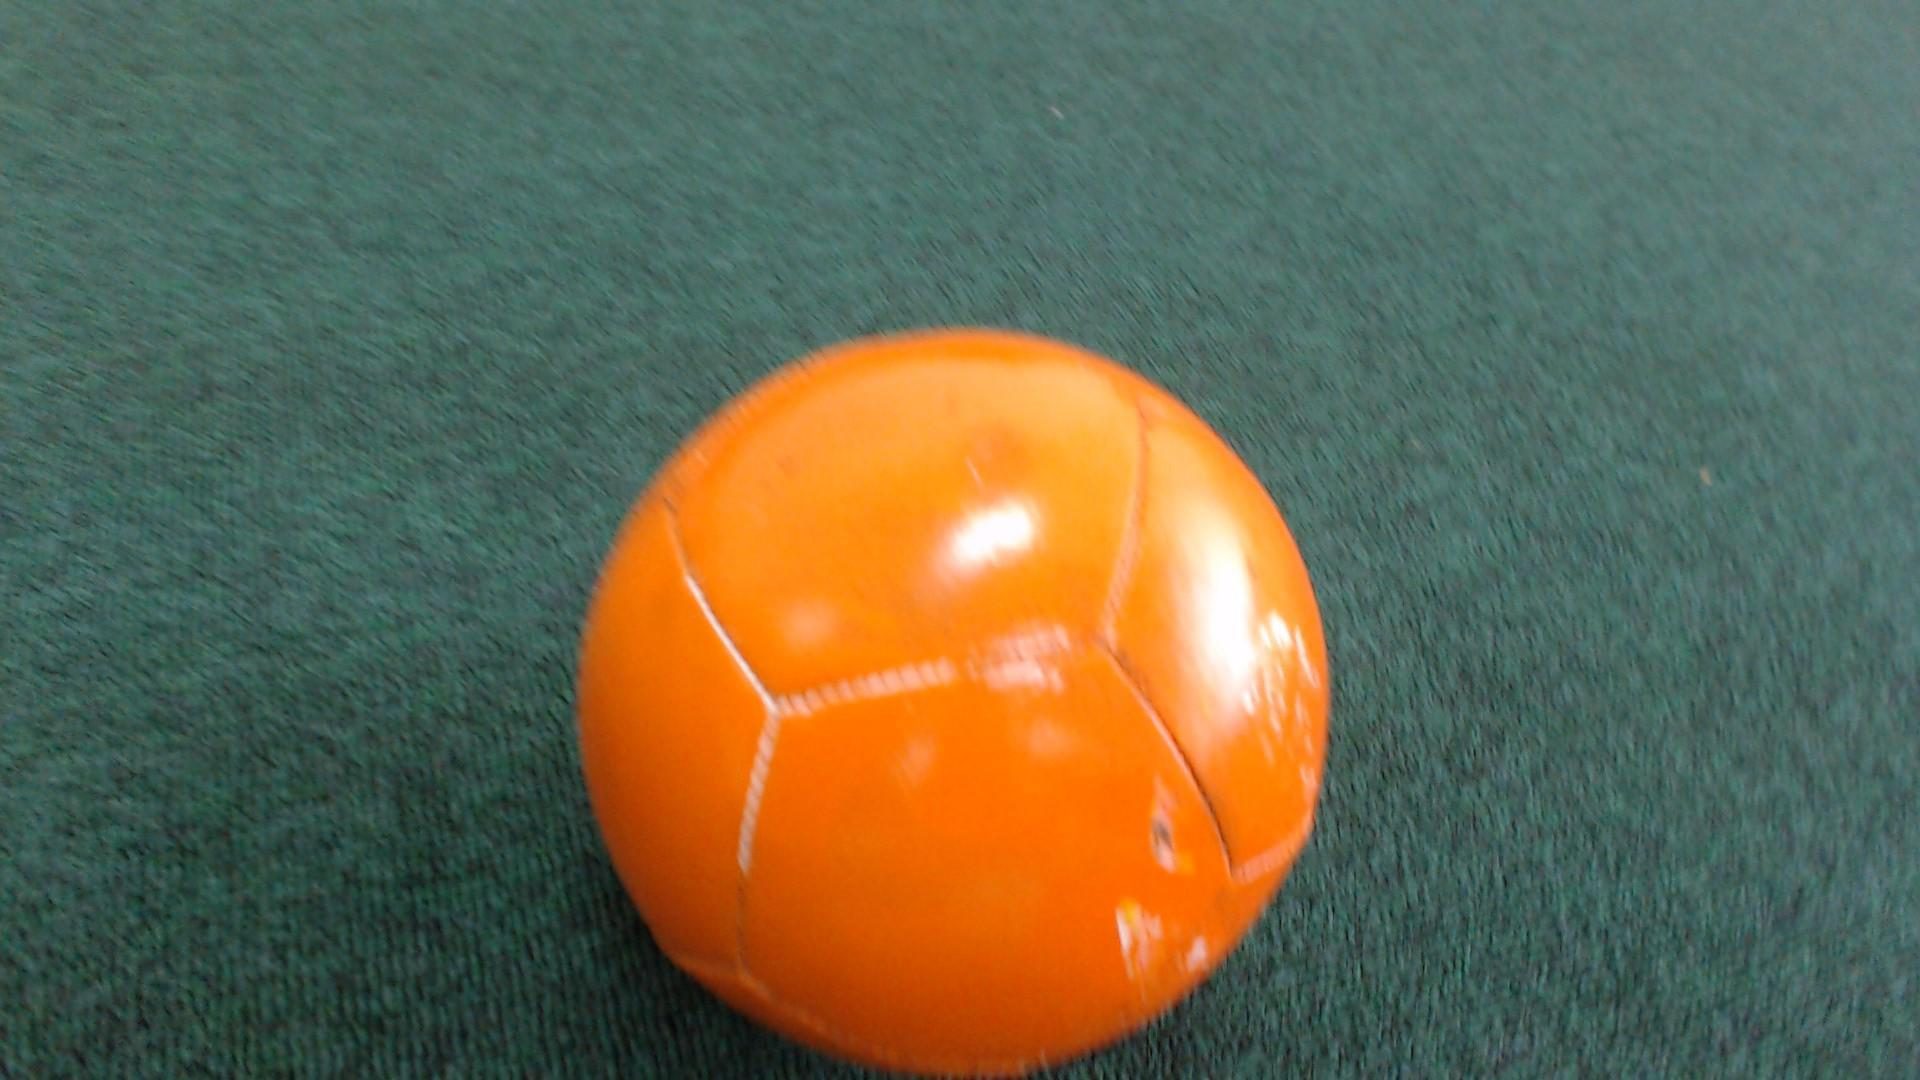bola: (537, 295, 1364, 1079)
